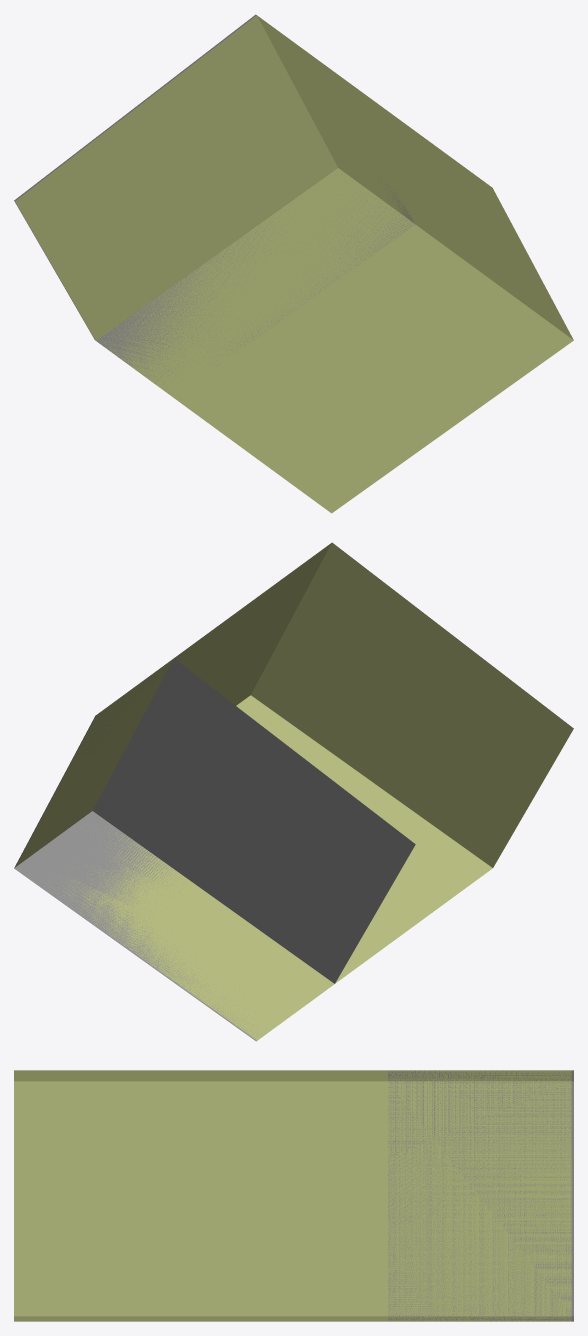
3 renders of one model, top to bottom at view 1: azimuth 30°, elevation 25°; view 2: azimuth 150°, elevation 25°; view 3: azimuth 270°, elevation 25°, orthographic. The views are drawn at different scales.
Visible parts, largest first — view 1: 0_1_2_0_3_0_3_2_2; view 2: 0_1_2_0_3_0_3_2_2; view 3: 0_1_2_0_3_0_3_2_2.
Part boxes in pixels (<box>): 0_1_2_0_3_0_3_2_2: <box>14,14,573,513</box>; 0_1_2_0_3_0_3_2_2: <box>14,542,573,1041</box>; 0_1_2_0_3_0_3_2_2: <box>14,1070,573,1321</box>.
Bounding box in the file's own units: 7.12 × 6.04 × 9.04.
